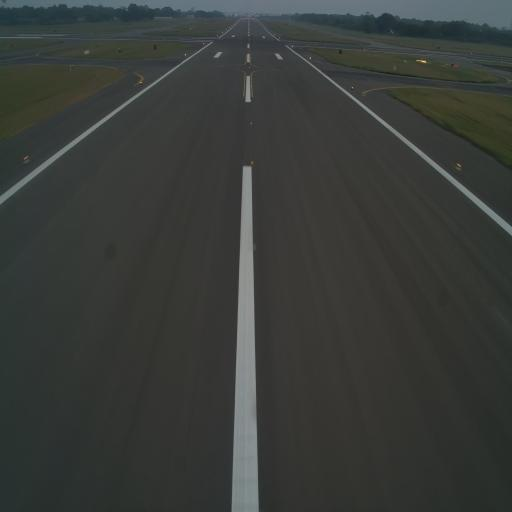off: (251, 237, 261, 256)
on: (455, 158, 464, 172), (249, 155, 257, 170), (20, 153, 30, 163), (246, 116, 254, 128), (136, 78, 144, 88), (348, 84, 356, 92), (249, 96, 252, 104), (249, 83, 252, 89)
